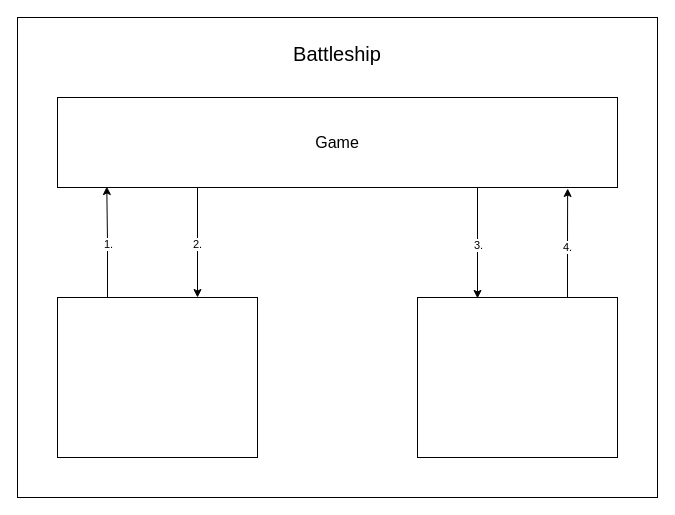
Some shapes in this 675 by 515 pixel diagram are drawn without their labels. The shapes that lost their labels are listed below. From the top down, each one's box as (x1, y1, x2, y2) in pixels, then its label:
(56, 296, 258, 458): GUI Displays
(416, 296, 618, 458): Player Holds data about player & ships.
